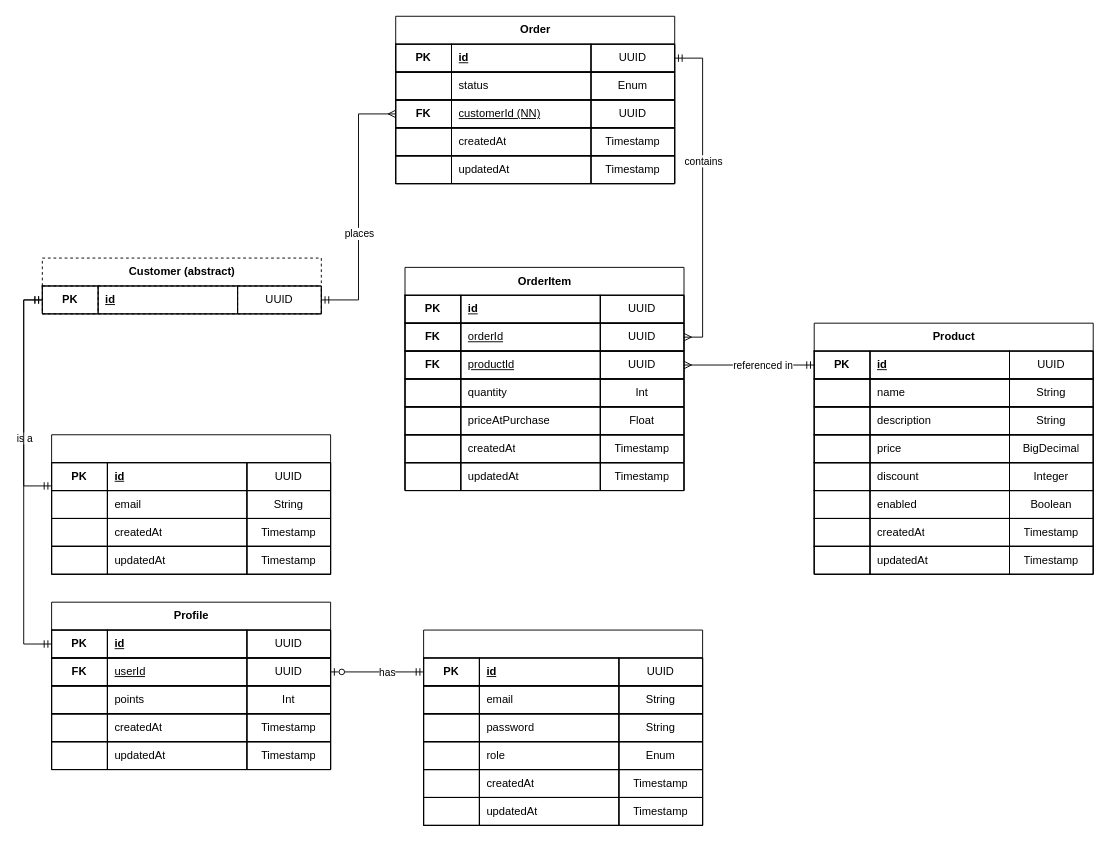
The diagram is 1109 pixels wide and 842 high, and some of its shapes have lost their labels. The box of each missing label's shape, as (x1, y1, x2, y2) in pixels:
Guest: (51, 434, 331, 574)
Users: (423, 629, 703, 825)
